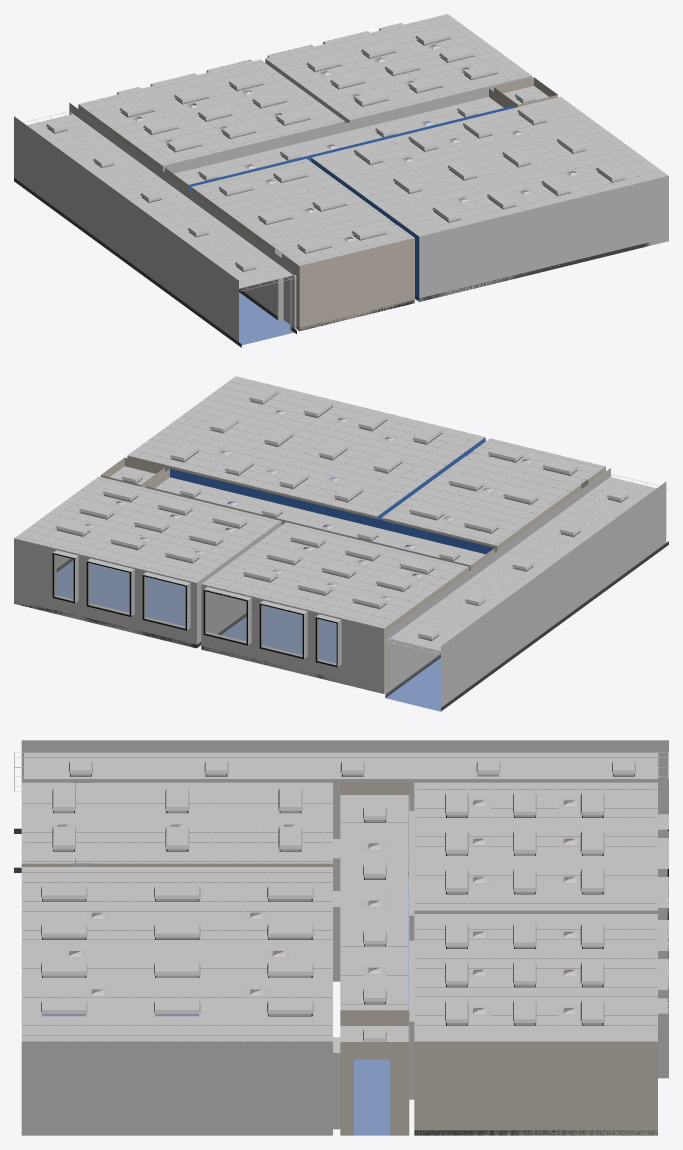
Rendered from WideAreaTrackingRoom_2.fbx.
3 views of the same model, one above another, from view 1: azimuth 30°, elevation 25°; view 2: azimuth 150°, elevation 25°; view 3: azimuth 270°, elevation 25° (orthographic). The views are drawn at different scales.
Parts seen in each view (by area): view 1: Ceiling Tile.603, Walls.004, Walls, Ceiling Rails.005, Ceiling Rails.002, Ceiling Rails.004, Ceiling Rails.001, Walls.001, Ceiling Rails.003, Virtual Environments Lab.004, Virtual Environments Lab.005, Walls.006 (+5 smaller); view 2: Ceiling Tile.603, Walls.004, Ceiling Rails.002, Ceiling Rails.005, Walls.003, Walls.006, Ceiling Rails.004, Ceiling Rails.001, Ceiling Rails.003, Virtual Environments Lab.004, Virtual Environments Lab.005, Walls (+5 smaller); view 3: Ceiling Tile.603, Ceiling Rails.002, Ceiling Rails.005, Walls, Ceiling Rails.004, Walls.003, Ceiling Rails.001, Ceiling Rails.003, Walls.004, Walls.005, Walls.006, Virtual Environments Lab.005 (+5 smaller).
Boxes of the visible parts, x1=… form: Ceiling Tile.603: x1=311, y1=97, x2=668, y2=236; Walls.004: x1=14, y1=103, x2=294, y2=345; Walls: x1=311, y1=131, x2=668, y2=301; Ceiling Rails.005: x1=265, y1=14, x2=531, y2=120; Ceiling Rails.002: x1=78, y1=59, x2=344, y2=165; Ceiling Rails.004: x1=192, y1=158, x2=414, y2=265; Ceiling Rails.001: x1=23, y1=111, x2=296, y2=291; Walls.001: x1=191, y1=179, x2=414, y2=331; Ceiling Rails.003: x1=174, y1=97, x2=503, y2=184; Virtual Environments Lab.004: x1=164, y1=121, x2=377, y2=191; Virtual Environments Lab.005: x1=354, y1=88, x2=512, y2=141; Walls.006: x1=78, y1=59, x2=345, y2=171; Ceiling Tile.603: x1=127, y1=376, x2=485, y2=516; Walls.004: x1=385, y1=468, x2=666, y2=711; Ceiling Rails.002: x1=201, y1=522, x2=468, y2=628; Ceiling Rails.005: x1=14, y1=476, x2=281, y2=582; Walls.003: x1=14, y1=501, x2=281, y2=646; Walls.006: x1=201, y1=548, x2=468, y2=693; Ceiling Rails.004: x1=382, y1=438, x2=605, y2=545; Ceiling Rails.001: x1=385, y1=474, x2=668, y2=654; Ceiling Rails.003: x1=155, y1=477, x2=485, y2=565; Virtual Environments Lab.004: x1=281, y1=501, x2=494, y2=598; Virtual Environments Lab.005: x1=146, y1=468, x2=304, y2=552; Walls: x1=127, y1=393, x2=485, y2=562; Ceiling Tile.603: x1=21, y1=867, x2=332, y2=1041; Ceiling Rails.002: x1=414, y1=782, x2=657, y2=910; Ceiling Rails.005: x1=414, y1=914, x2=657, y2=1041; Walls: x1=21, y1=1014, x2=340, y2=1135; Ceiling Rails.004: x1=21, y1=782, x2=332, y2=863; Walls.003: x1=409, y1=920, x2=668, y2=1135; Ceiling Rails.001: x1=14, y1=752, x2=668, y2=791; Ceiling Rails.003: x1=340, y1=795, x2=409, y2=1010; Walls.004: x1=21, y1=740, x2=668, y2=838; Walls.005: x1=340, y1=1013, x2=409, y2=1135; Walls.006: x1=409, y1=801, x2=668, y2=940; Virtual Environments Lab.005: x1=340, y1=1009, x2=409, y2=1107.
Size of the model in its own units: 1925 by 298 by 1766.
